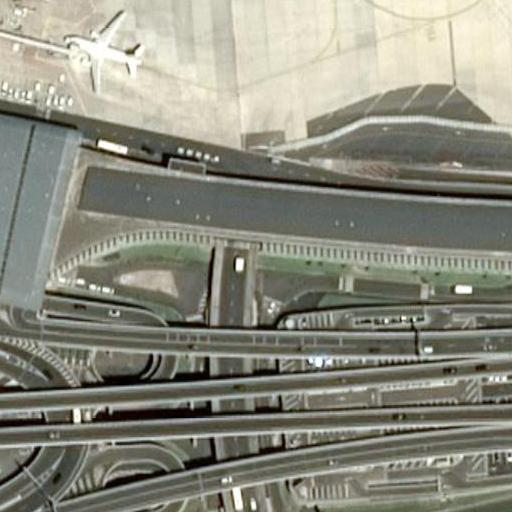Aircraft: (62, 0, 144, 94)
